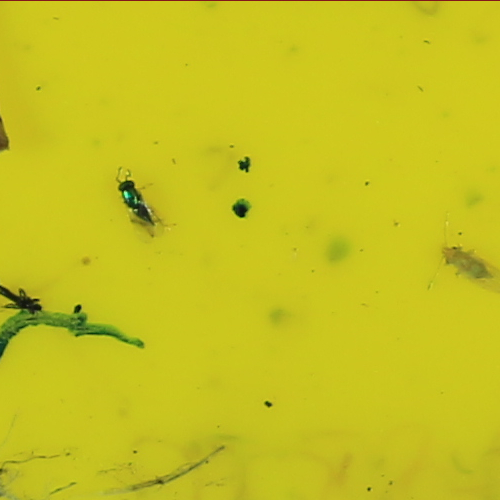psylla: (440, 241, 493, 280)
wasp: (115, 175, 155, 228)
